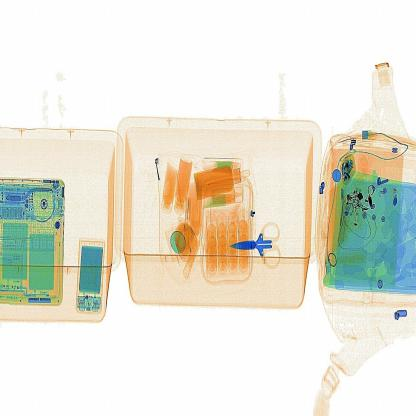gun: (234, 220, 288, 268)
